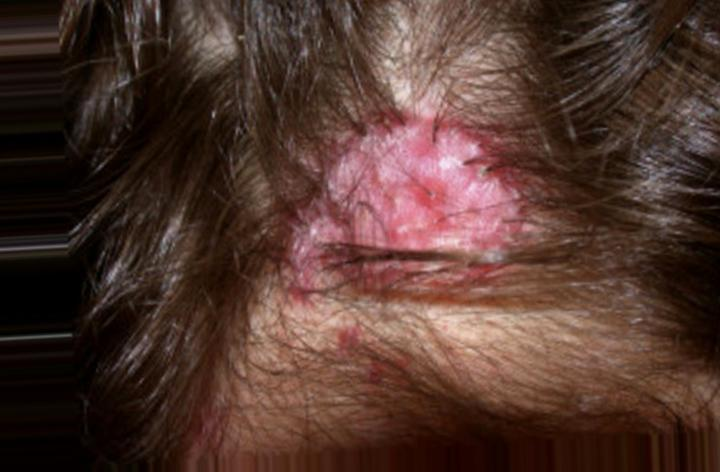Folliculitis: (313, 116, 519, 304)
